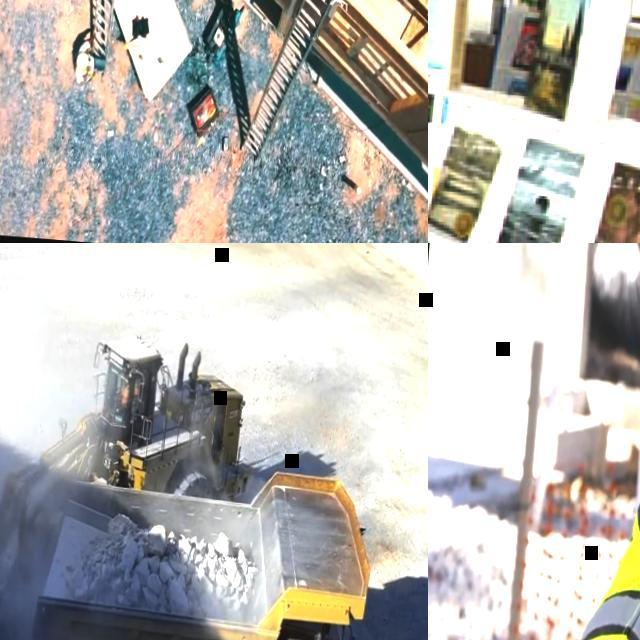helmet: (74, 51, 88, 70)
